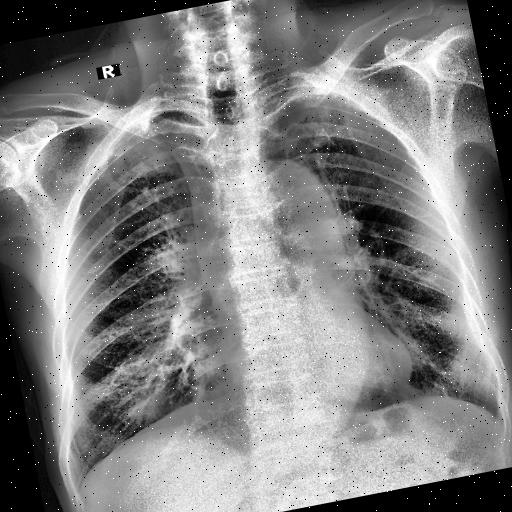0- Aortic enlargement: (224, 152, 343, 257), (236, 148, 344, 260), (252, 153, 342, 242)
11- Pleural thickening: (266, 78, 332, 106), (128, 103, 180, 133)
12- Pneumothorax: (119, 108, 165, 134)
